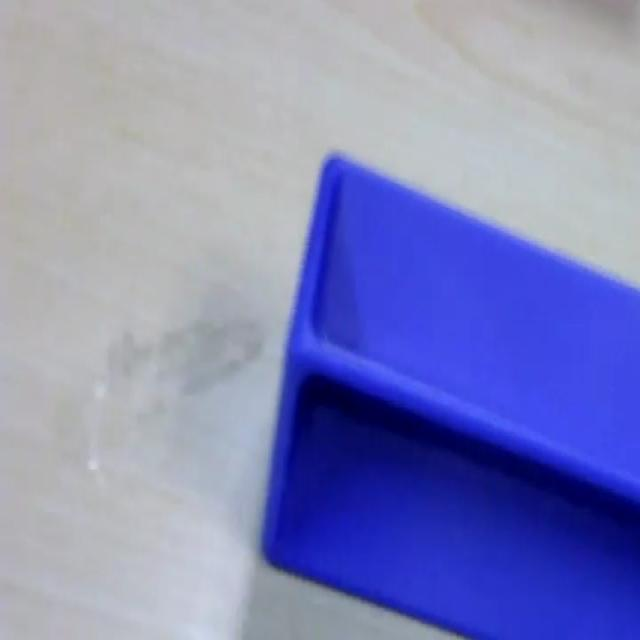blue_block: (260, 148, 638, 636)
